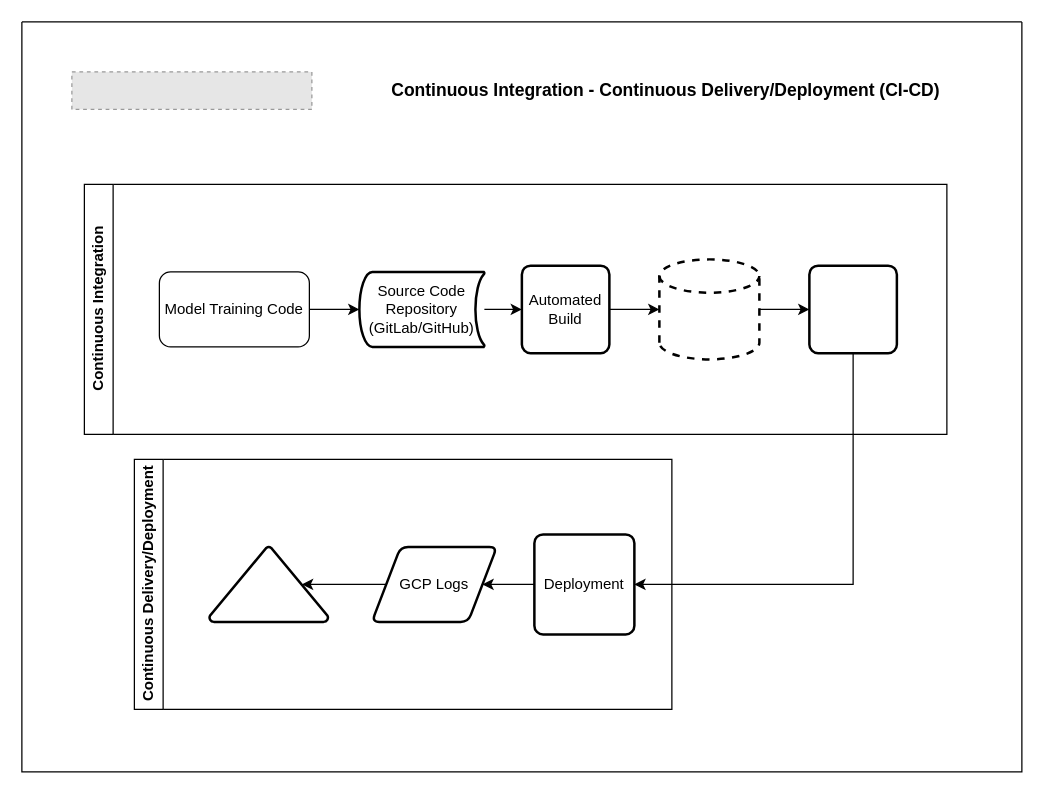
Some shapes in this 1044 by 794 pixel diagram are drawn without their labels. Grey dashed boxes stand in for pictures. Here are the shapes that lost their labels. From the top down, the centre of each, then its label:
At [709,309]: "Artifact/Container Registry".
At [853,309]: "Automated Tests".
At [268,583]: "Monitoring & Alerting".
